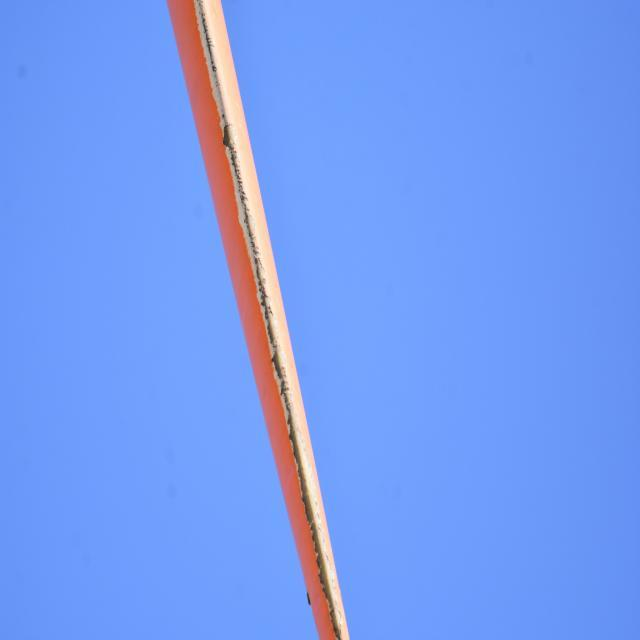EROSION: (292, 467, 350, 632), (255, 299, 310, 459), (192, 17, 243, 158), (229, 164, 271, 293)
